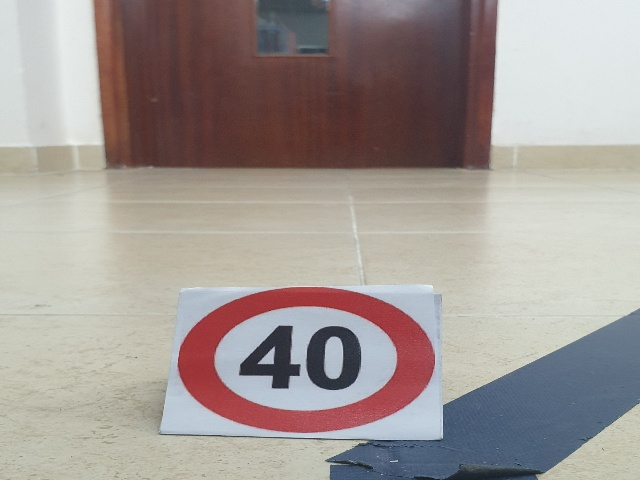Limit 40: (175, 286, 434, 430)
